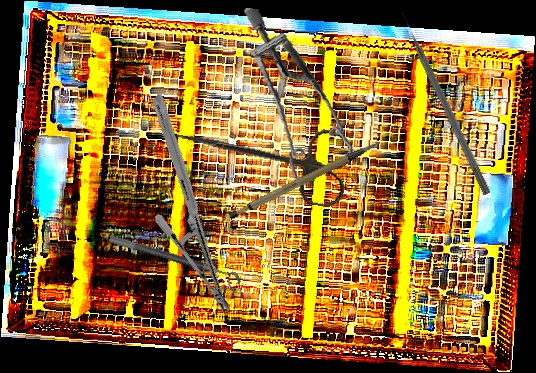Fixation Ring: (105, 234, 243, 294)
Iris Scissors: (169, 102, 355, 210)
Needle Holder: (77, 92, 306, 317)
Pusher: (398, 9, 493, 196)
Scalpel Handle: (221, 140, 390, 223)
Speculum: (224, 7, 377, 192)
